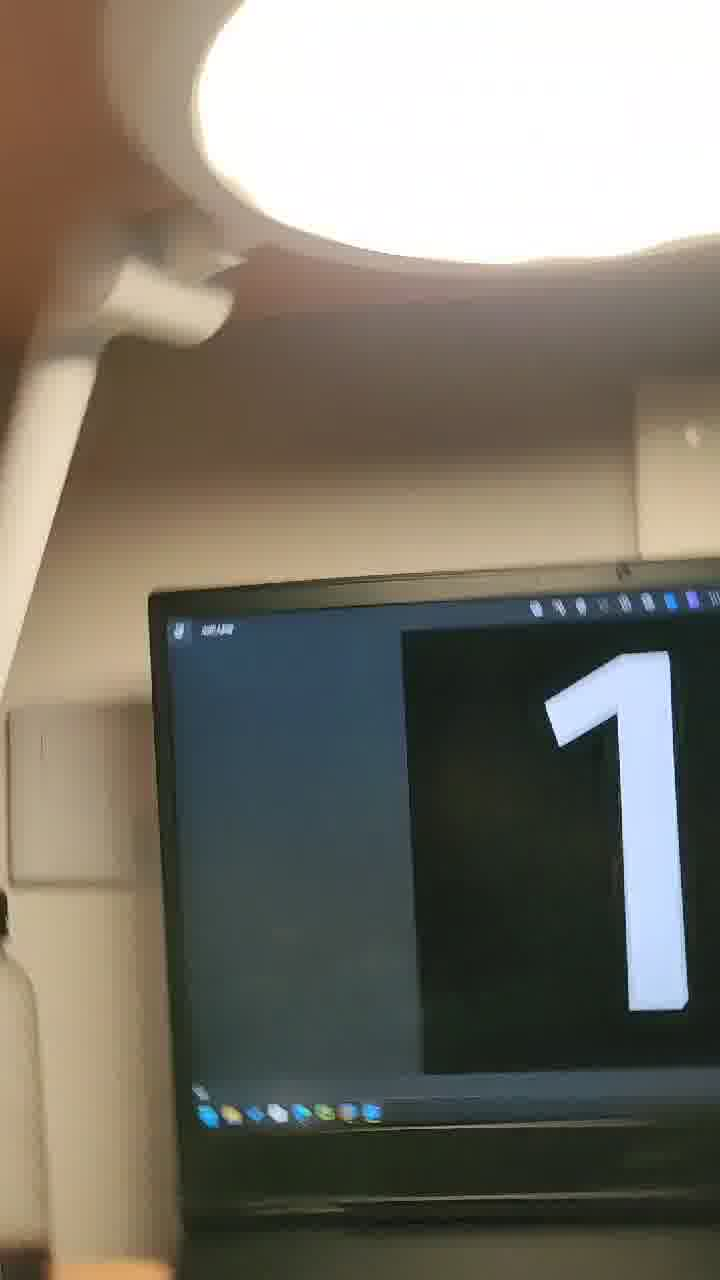one: (439, 586, 720, 1054)
